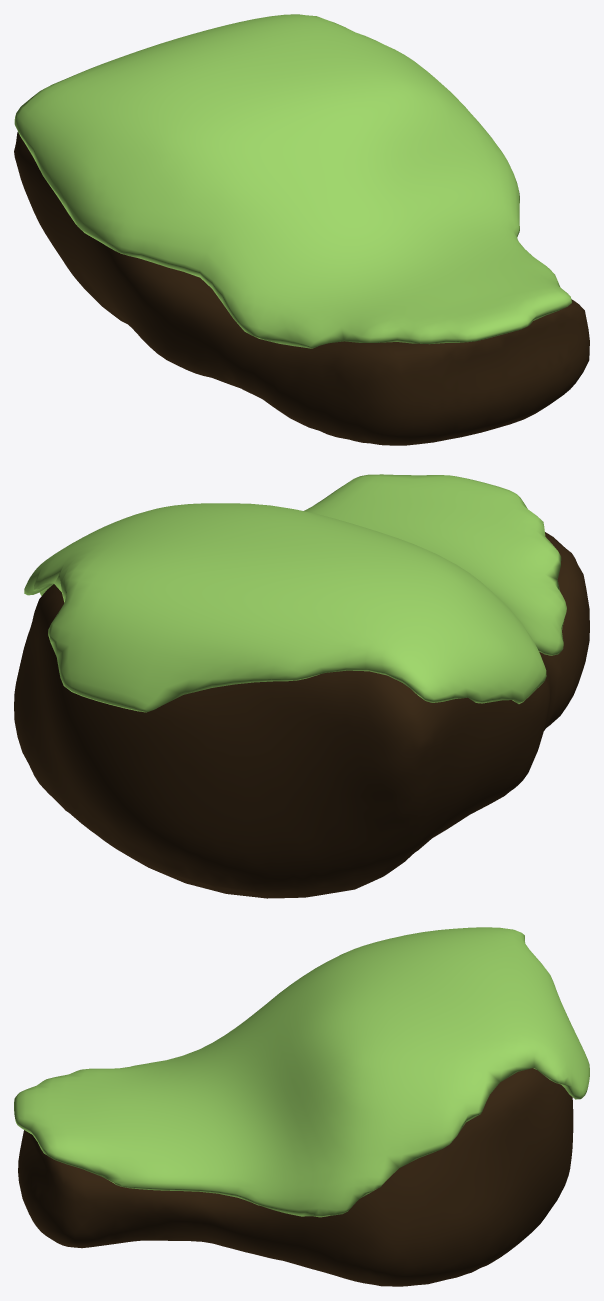
Rendered from groundBit.fbx.
3 renders of one model, top to bottom at view 1: azimuth 30°, elevation 25°; view 2: azimuth 150°, elevation 25°; view 3: azimuth 270°, elevation 25°, orthographic. The views are drawn at different scales.
Visible parts, largest first — view 1: Cube; view 2: Cube; view 3: Cube.
Part boxes in pixels (x1,y1,x2,y2): Cube: (14,14,589,445); Cube: (14,474,589,898); Cube: (14,927,589,1286).
Size of the model in its own units: 750 by 462 by 952.
